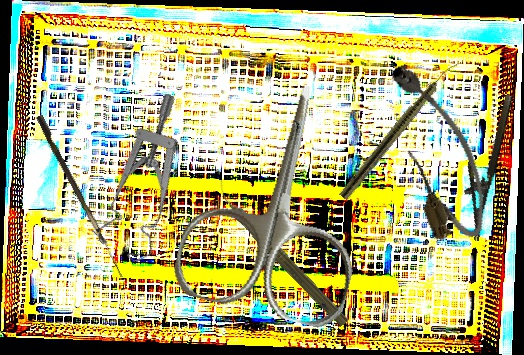Cannula: (379, 52, 498, 249)
Handpiece: (206, 178, 355, 330), (338, 57, 460, 202)
Hook Surgical: (33, 114, 130, 278)
Iris Scissors: (168, 65, 394, 333)
Needle Holder: (450, 89, 515, 242)
Speculum: (63, 90, 239, 273)
